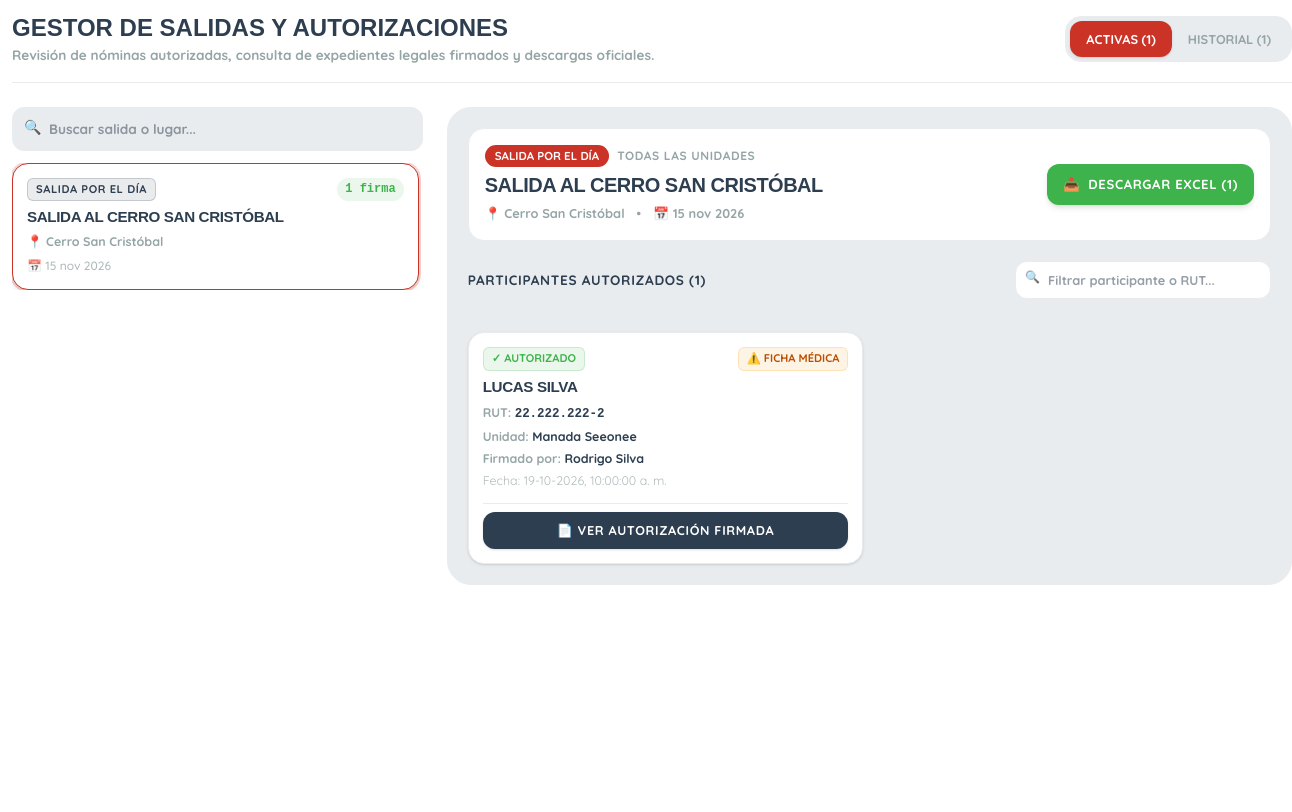
Test: DashSalidasManager component › separa salidas activas de las del historial según fecha
The width and height of the screenshot is (1292, 812).
Check: the text "Campamento Anual 2025" is not shown
// Cambiar a Historial
What coordinates should you click on to do the following:
click the button "Historial (1)"
I would click on:
 (1229, 39)
Its box is [1172, 21, 1287, 57].
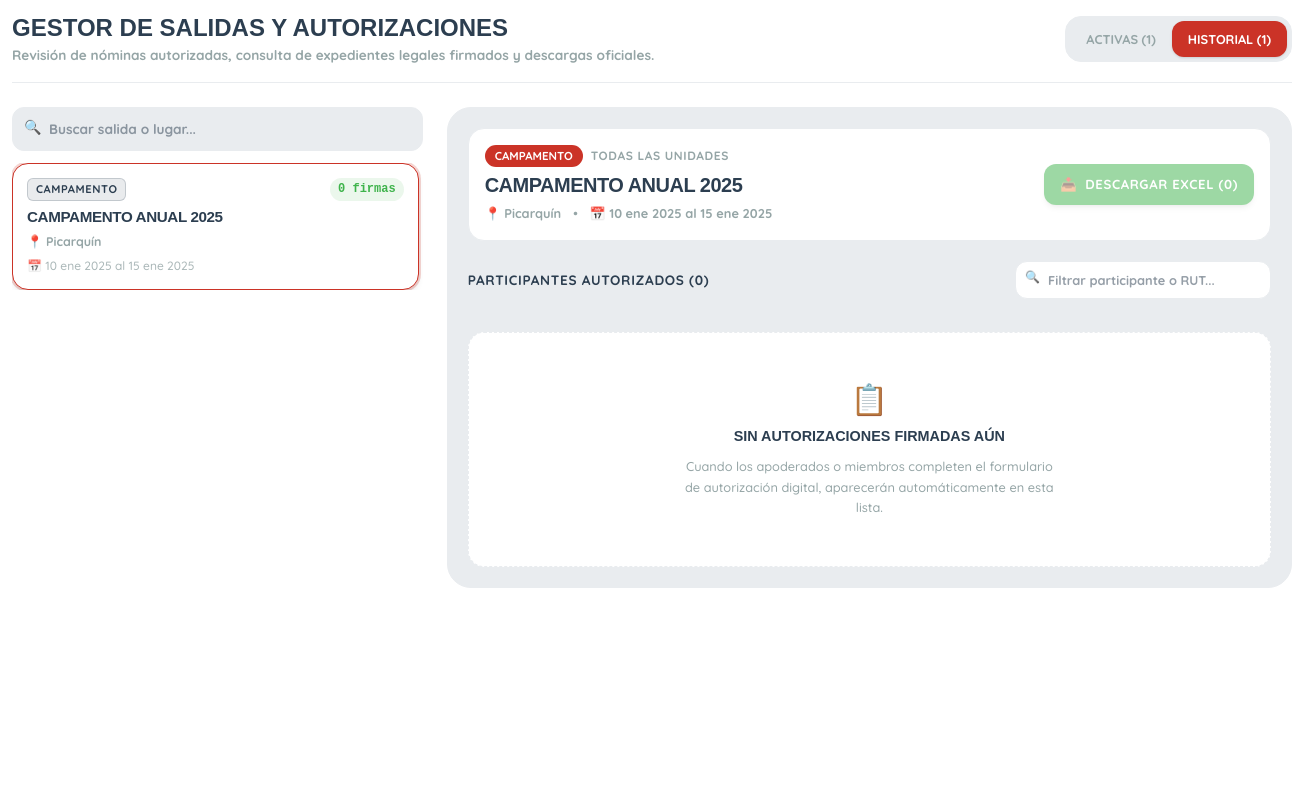
Check: the heading "Salida al Cerro San Cristóbal" is gone
